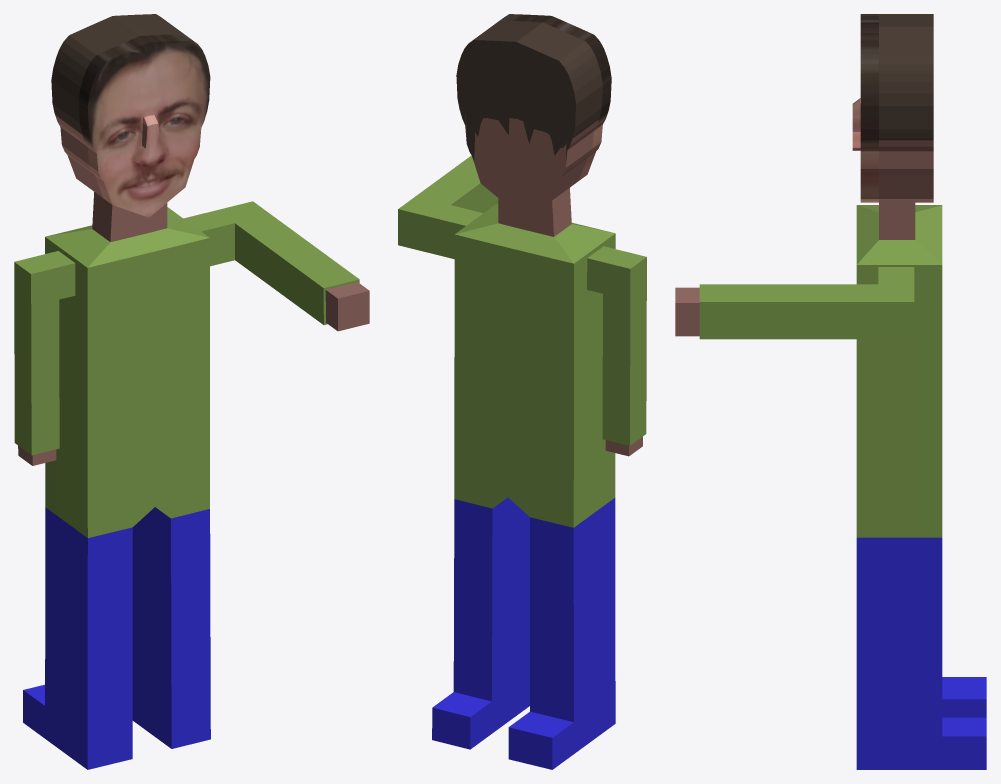
The model's file is DevNoob.fbx.
3 renders of one model, left to right at view 1: azimuth 30°, elevation 25°; view 2: azimuth 150°, elevation 25°; view 3: azimuth 270°, elevation 25°, orthographic. The views are drawn at different scales.
Visible parts, largest first — view 1: Cube; view 2: Cube; view 3: Cube.
Boxes of the visible parts, x1,y1,x2,y2 form: Cube: (14, 14, 369, 769); Cube: (398, 14, 646, 769); Cube: (675, 14, 986, 769).
Size of the model in its own units: 756 by 2154 by 850.
Materials: 5 (1 with a texture image).
